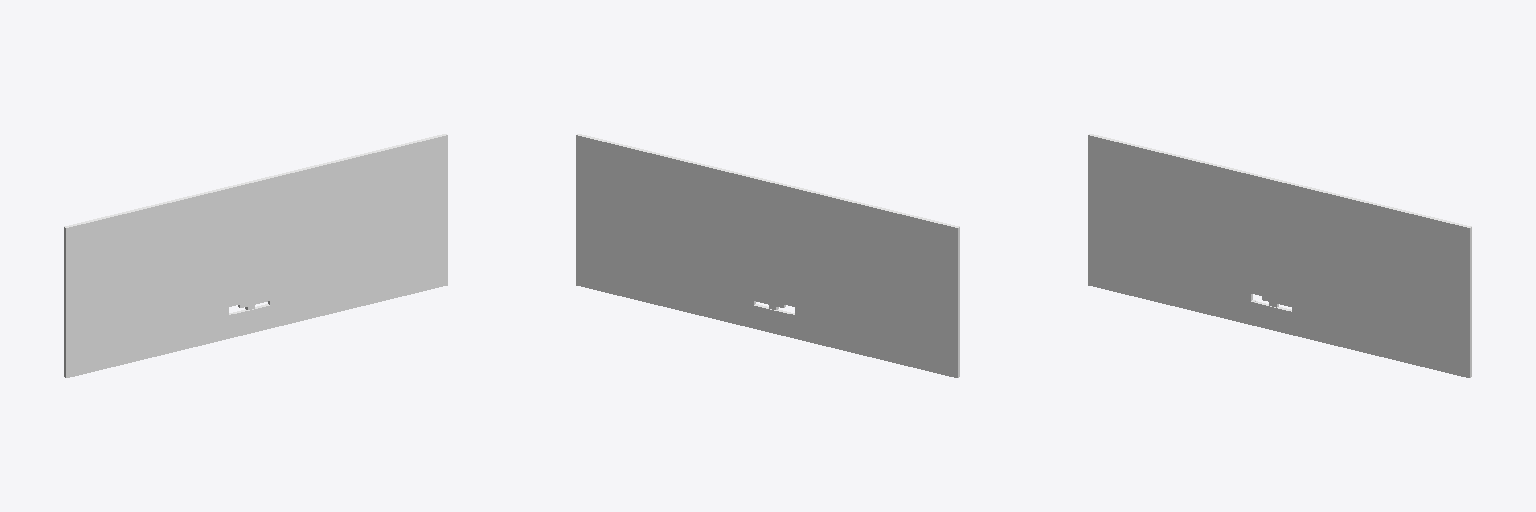
Rendered from Wall2.obj.
3 views of the same model, side by side, from view 1: azimuth 30°, elevation 25°; view 2: azimuth 150°, elevation 25°; view 3: azimuth 330°, elevation 25° (orthographic).
Parts seen in each view (by area): view 1: Floral_Caves_Hunt__-425_5_-429_to_-325_42_-429; view 2: Floral_Caves_Hunt__-425_5_-429_to_-325_42_-429; view 3: Floral_Caves_Hunt__-425_5_-429_to_-325_42_-429.
Boxes of the visible parts, x1,y1,x2,y2 form: Floral_Caves_Hunt__-425_5_-429_to_-325_42_-429: [64, 134, 447, 377]; Floral_Caves_Hunt__-425_5_-429_to_-325_42_-429: [576, 134, 959, 377]; Floral_Caves_Hunt__-425_5_-429_to_-325_42_-429: [1088, 134, 1471, 377].
Bounding box in the file's own units: 101 × 38 × 1.